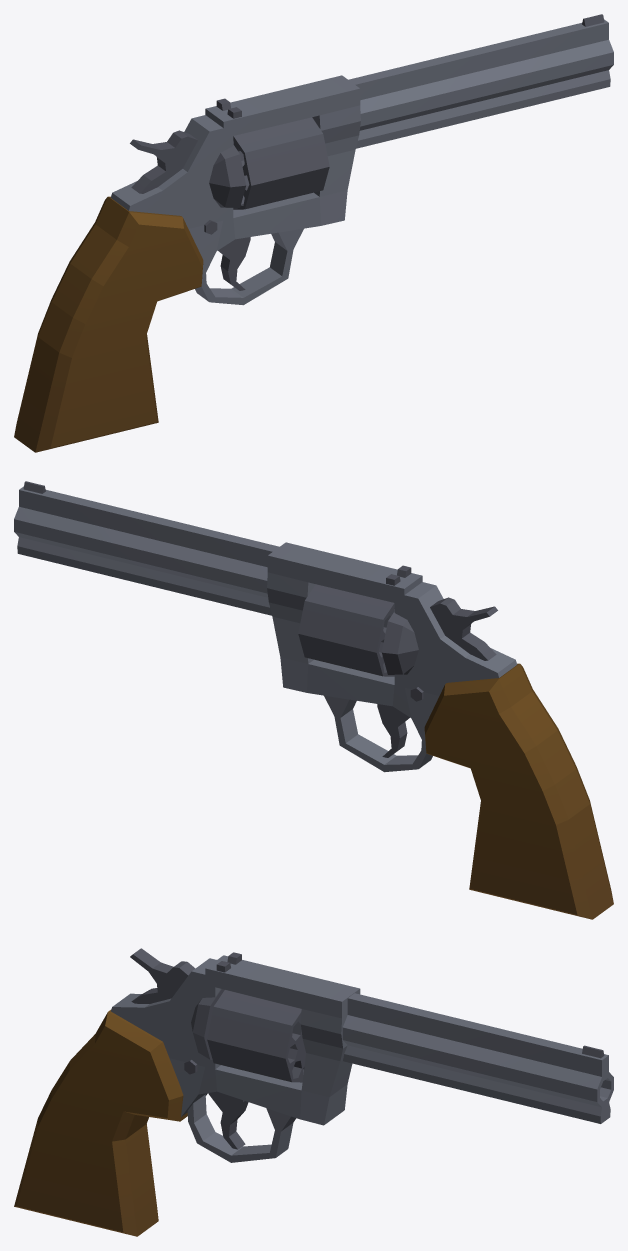
File: Revolver.fbx
The picture shows the model from 3 angles, top to bottom: view 1: azimuth 30°, elevation 25°; view 2: azimuth 150°, elevation 25°; view 3: azimuth 330°, elevation 25°; orthographic projection.
Visible parts, largest first — view 1: Pistol5_05.001, Pistol5_05_2.001, Pistol5_05_4, Pistol5_05_3; view 2: Pistol5_05.001, Pistol5_05_2.001, Pistol5_05_4, Pistol5_05_3; view 3: Pistol5_05.001, Pistol5_05_2.001, Pistol5_05_4, Pistol5_05_3.
Part boxes in pixels (bbox=[...]): Pistol5_05.001: bbox=[14, 14, 613, 452]; Pistol5_05_2.001: bbox=[233, 117, 329, 209]; Pistol5_05_4: bbox=[130, 130, 197, 193]; Pistol5_05_3: bbox=[218, 237, 250, 290]; Pistol5_05.001: bbox=[14, 481, 613, 919]; Pistol5_05_2.001: bbox=[298, 584, 394, 676]; Pistol5_05_4: bbox=[430, 597, 497, 660]; Pistol5_05_3: bbox=[377, 704, 409, 757]; Pistol5_05.001: bbox=[14, 952, 613, 1236]; Pistol5_05_2.001: bbox=[207, 990, 305, 1082]; Pistol5_05_4: bbox=[130, 948, 195, 1003]; Pistol5_05_3: bbox=[208, 1091, 248, 1149].
Bounding box in the file's own units: 56.71 × 26.99 × 7.46.
